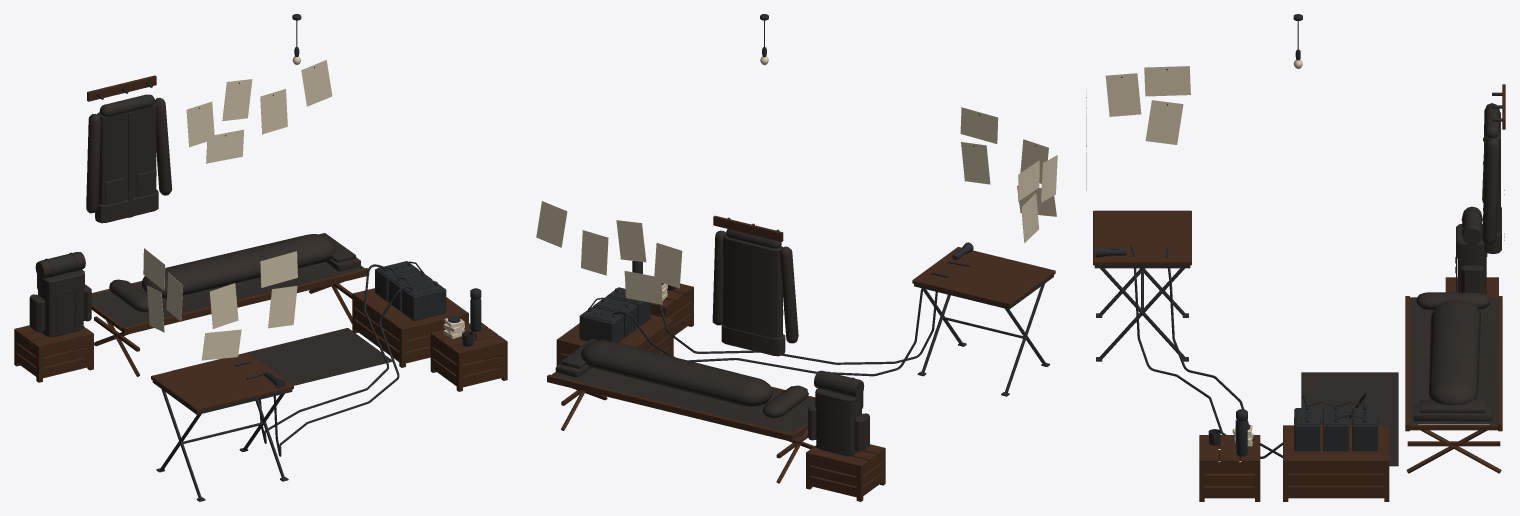
The model's file is leyla_camp.glb.
The picture shows the model from 3 angles, left to right: view 1: azimuth 30°, elevation 25°; view 2: azimuth 150°, elevation 25°; view 3: azimuth 270°, elevation 25°; orthographic projection. The views are drawn at different scales.
Parts seen in each view (by area): view 1: leyla_camp; view 2: leyla_camp; view 3: leyla_camp.
Part boxes in pixels (left/top/right/bottom): leyla_camp: left=14, top=14, right=507, bottom=501; leyla_camp: left=536, top=14, right=1057, bottom=501; leyla_camp: left=1086, top=14, right=1505, bottom=501.
Bounding box in the file's own units: 3.01 × 2.91 × 2.76.
